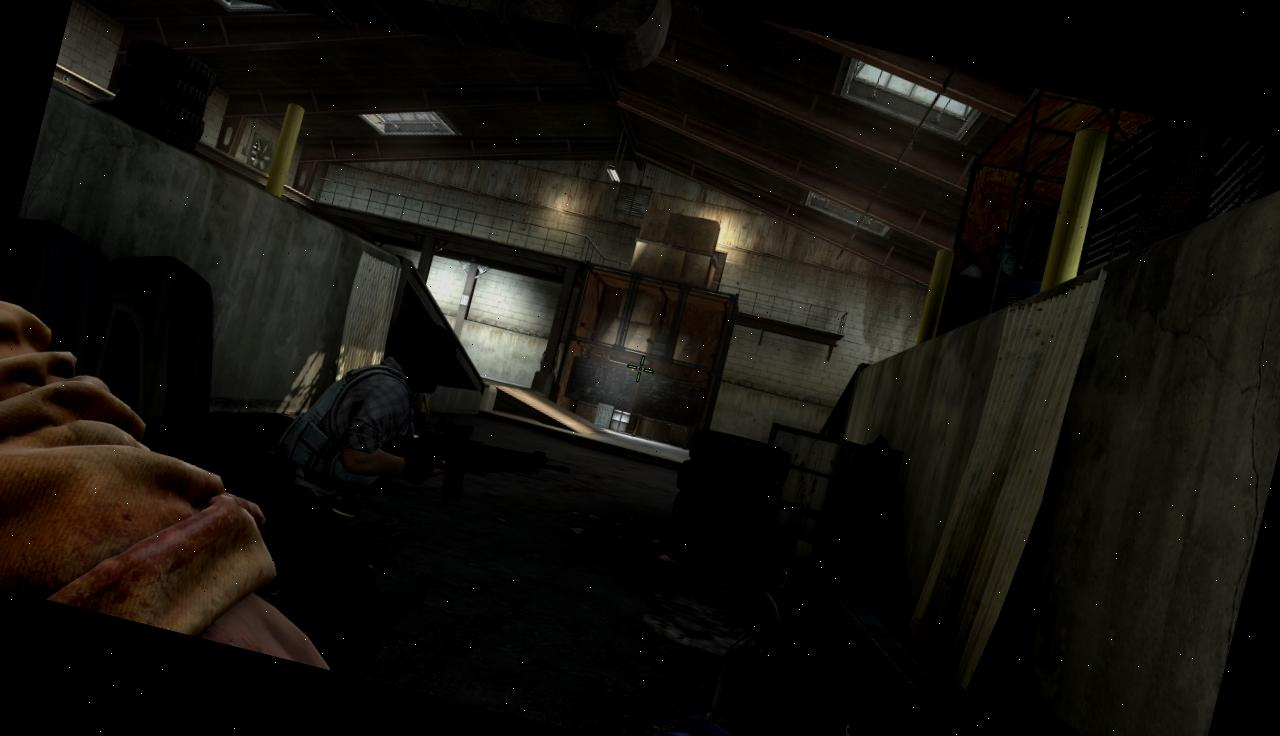shotgun: (712, 548, 1158, 736)
tt: (234, 296, 466, 678)
tthead: (389, 316, 463, 398)
